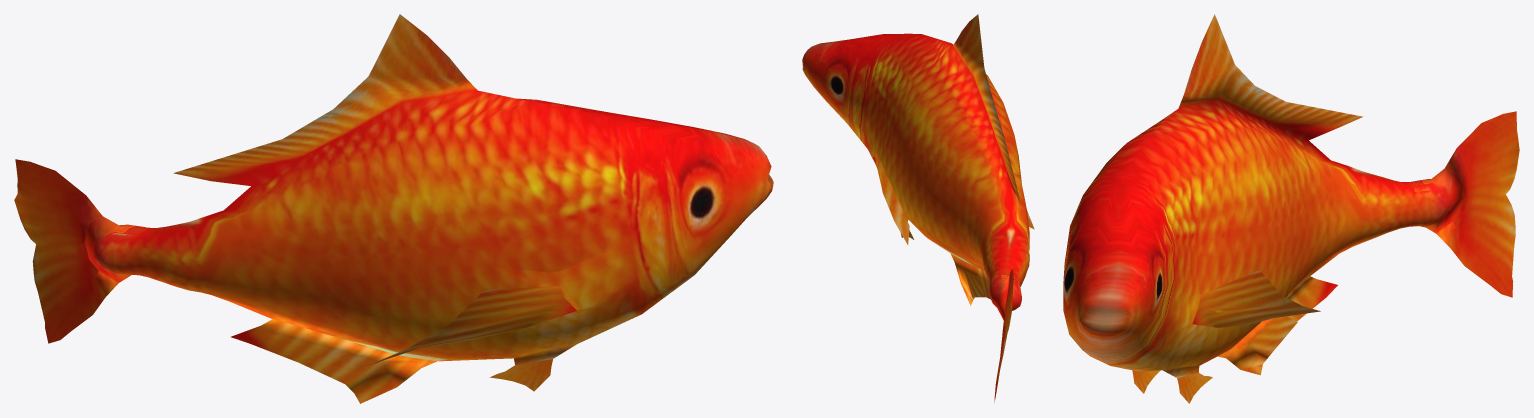
File: fish-old.glb
3 views of the same model, side by side, from view 1: azimuth 30°, elevation 25°; view 2: azimuth 150°, elevation 25°; view 3: azimuth 270°, elevation 25° (orthographic). The views are drawn at different scales.
Parts seen in each view (by area): view 1: fish; view 2: fish; view 3: fish.
Part boxes in pixels (bbox=[...]): fish: bbox=[14, 14, 773, 403]; fish: bbox=[802, 14, 1034, 402]; fish: bbox=[1063, 14, 1519, 403].
Size of the model in its own units: 2.44 by 1.79 by 2.02.
1 material, 1 textured.
